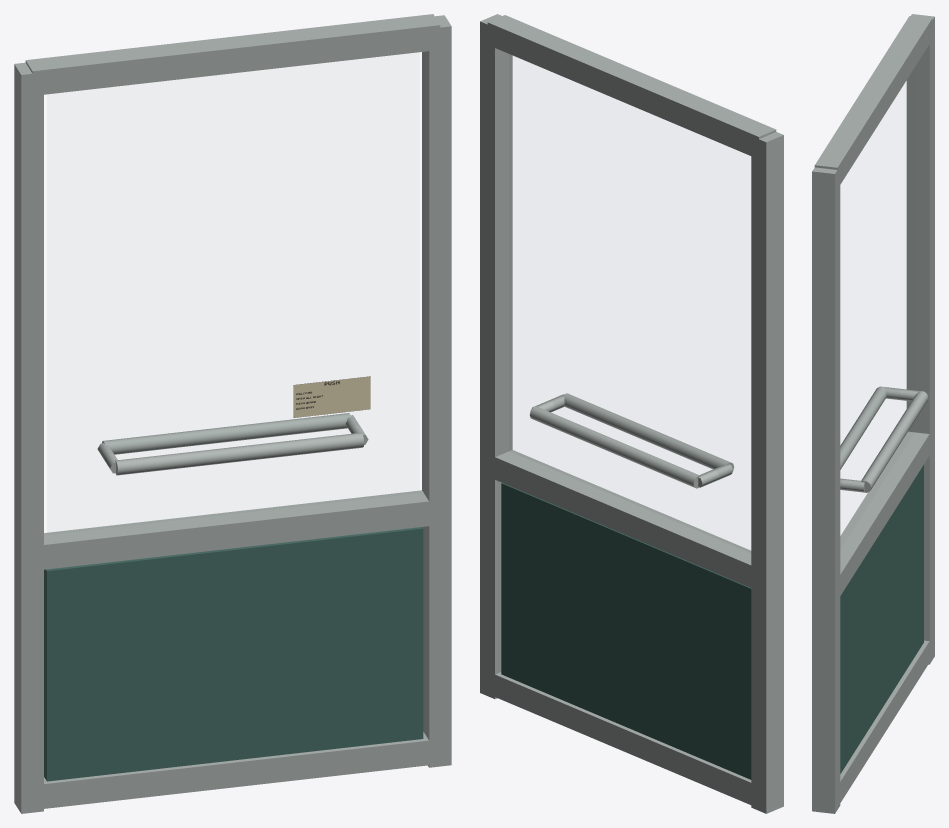
File: SM_Mesa_Door.glb
The picture shows the model from 3 angles, left to right: view 1: azimuth 30°, elevation 25°; view 2: azimuth 150°, elevation 25°; view 3: azimuth 270°, elevation 25°; orthographic projection. The views are drawn at different scales.
Parts seen in each view (by area): view 1: SM_Mesa_Door; view 2: SM_Mesa_Door; view 3: SM_Mesa_Door.
Part boxes in pixels (x1,y1,x2,y2): SM_Mesa_Door: (14, 14, 451, 813); SM_Mesa_Door: (480, 14, 783, 813); SM_Mesa_Door: (812, 14, 934, 813).
Bounding box in the file's own units: 1.2 × 2.25 × 0.3892.
4 materials, 1 textured.
